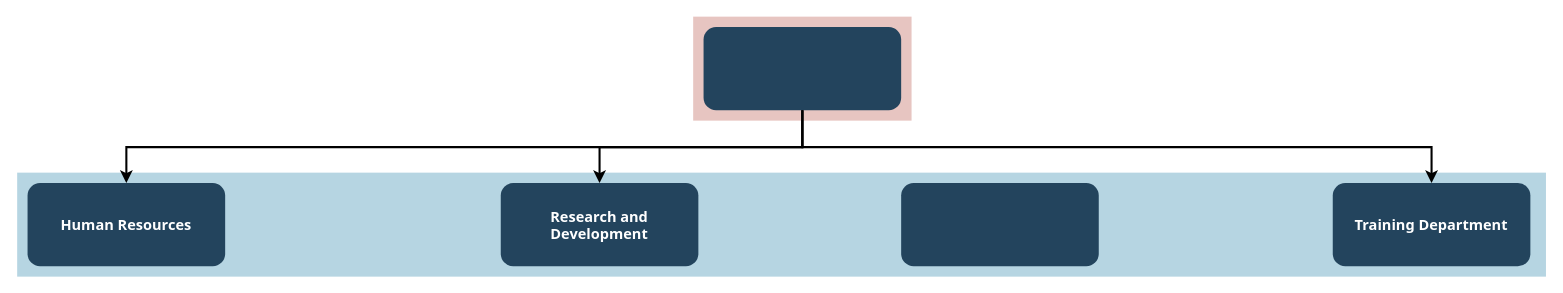
The diagram is 1563 pixels wide and 293 high, and some of its shapes have lost their labels. The shapes that lost their labels are listed below. From the top down, each one's centre as x and y in pixels, then its label:
the point at 802,68: Home
the point at 999,224: Technical Support
